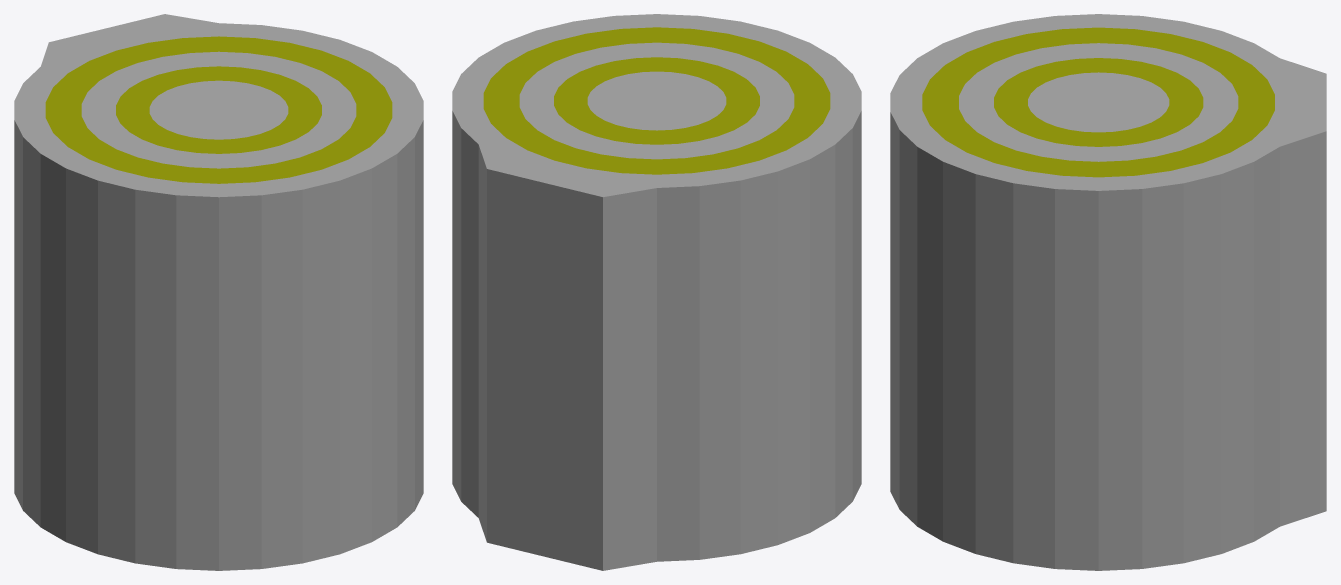
Rendered from Final_Platform.fbx.
The picture shows the model from 3 angles, left to right: view 1: azimuth 30°, elevation 25°; view 2: azimuth 150°, elevation 25°; view 3: azimuth 270°, elevation 25°; orthographic projection.
Visible parts, largest first — view 1: Final_Platform; view 2: Final_Platform; view 3: Final_Platform.
Boxes of the visible parts, x1,y1,x2,y2 form: Final_Platform: [14, 14, 423, 570]; Final_Platform: [452, 14, 861, 570]; Final_Platform: [890, 14, 1326, 570].
Bounding box in the file's own units: 2162 × 2165 × 2252.
